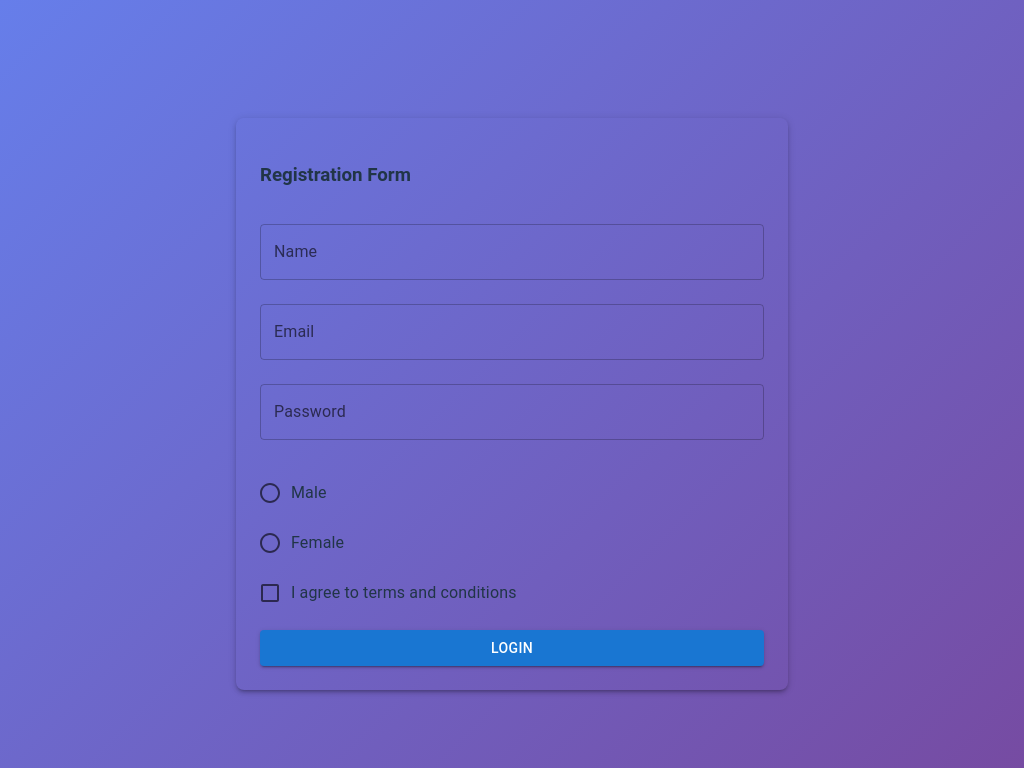
it: Login Form Component › SHOWS ERROR for short password
The width and height of the screenshot is (1024, 768).
In the field labelled "Email": (512, 332) x1=260 y1=304 x2=764 y2=360, type "test@test.com"
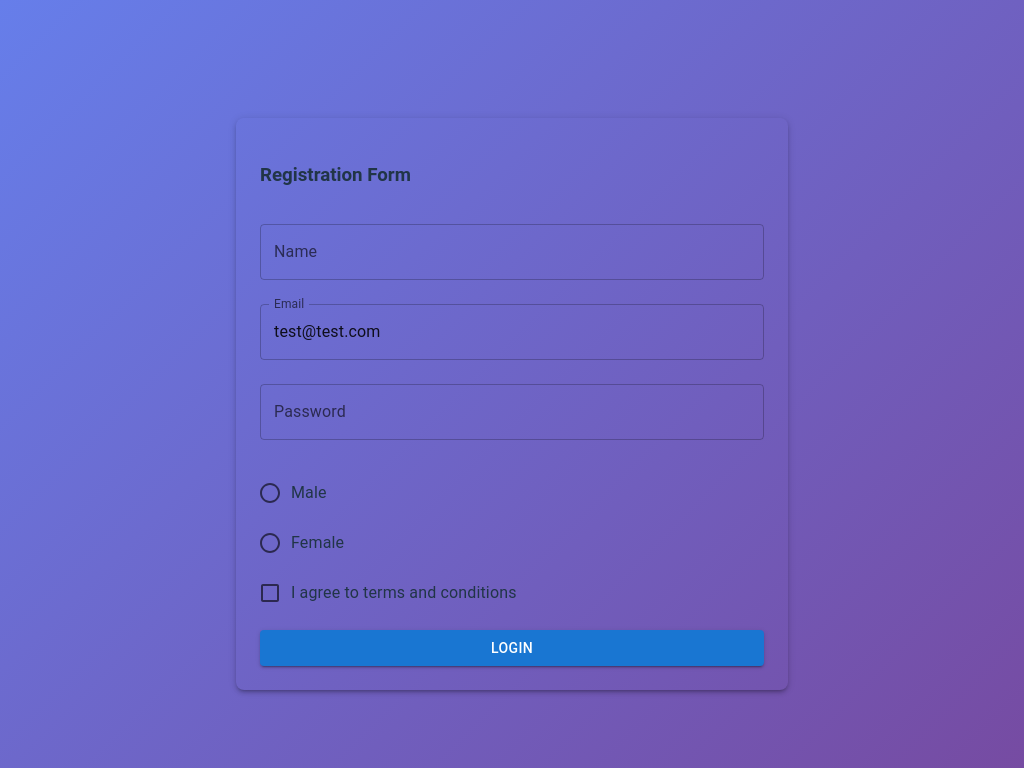
In the password field labelled "Password": (512, 412) x1=260 y1=384 x2=764 y2=440, type "123"
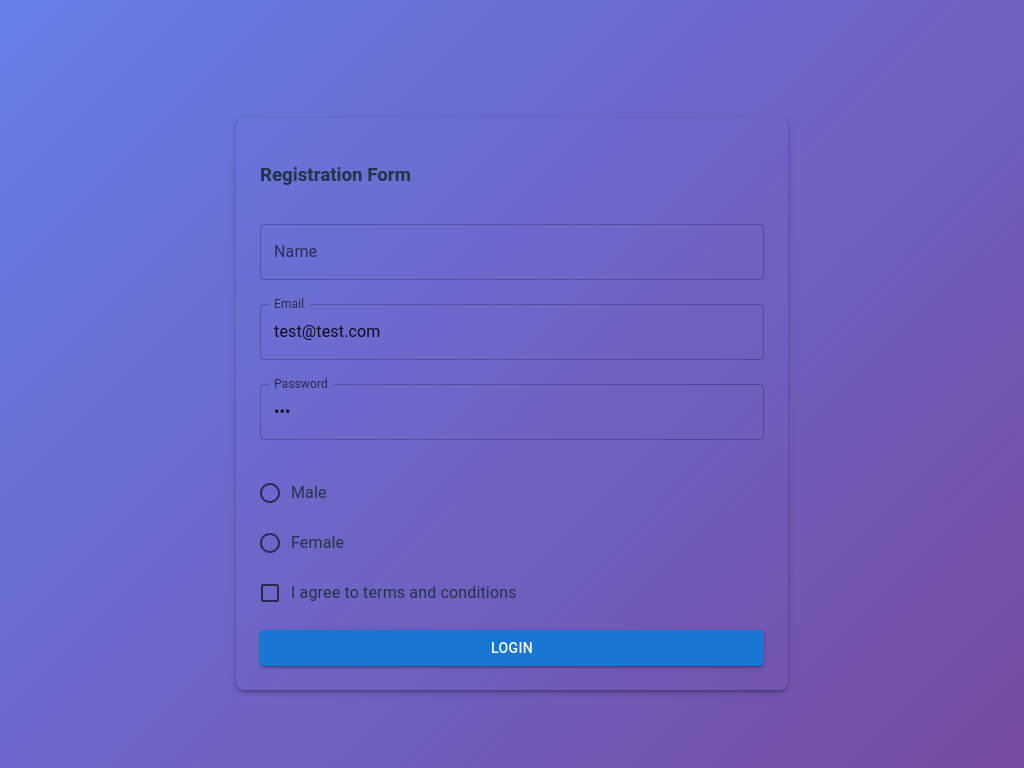
Click the checkbox: (387, 592) x1=258 y1=580 x2=517 y2=604
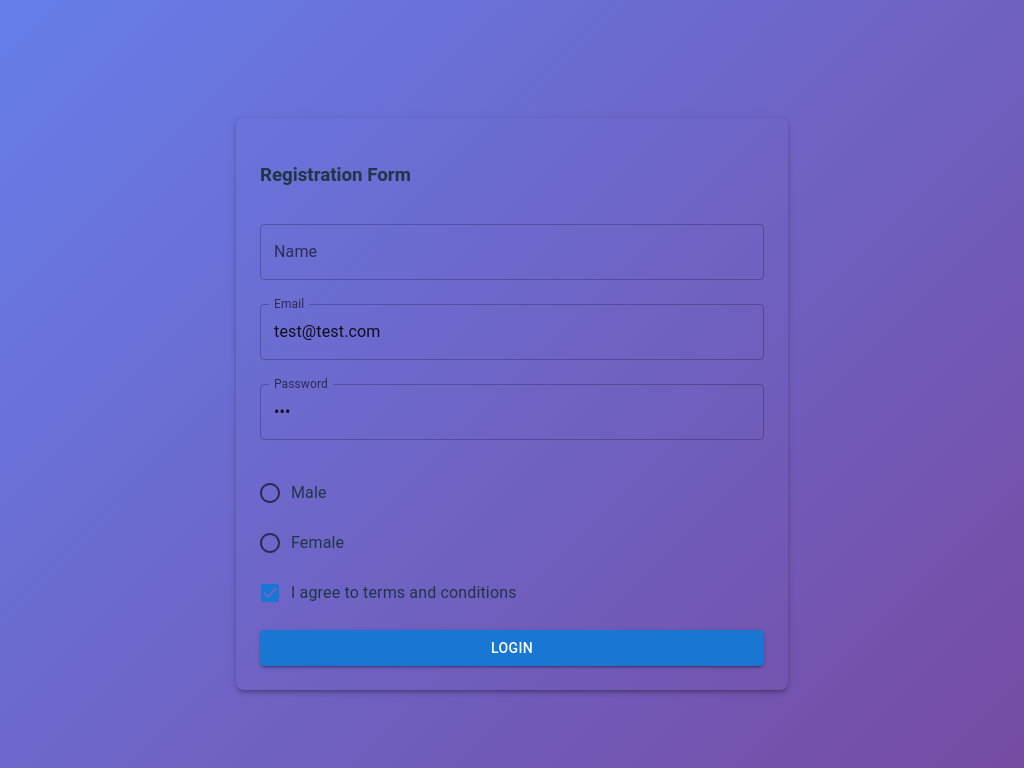
Click the button "login": (512, 648) x1=260 y1=630 x2=764 y2=666
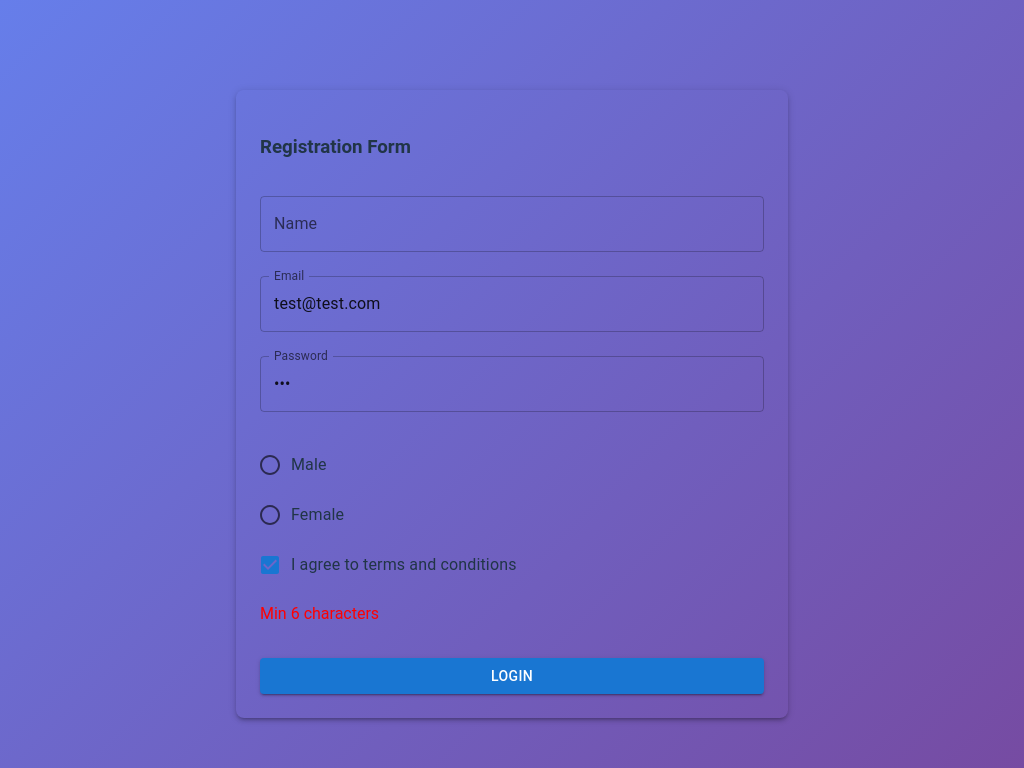
expect the text "Min 6 characters" is shown: met, box x1=260 y1=604 x2=379 y2=622
